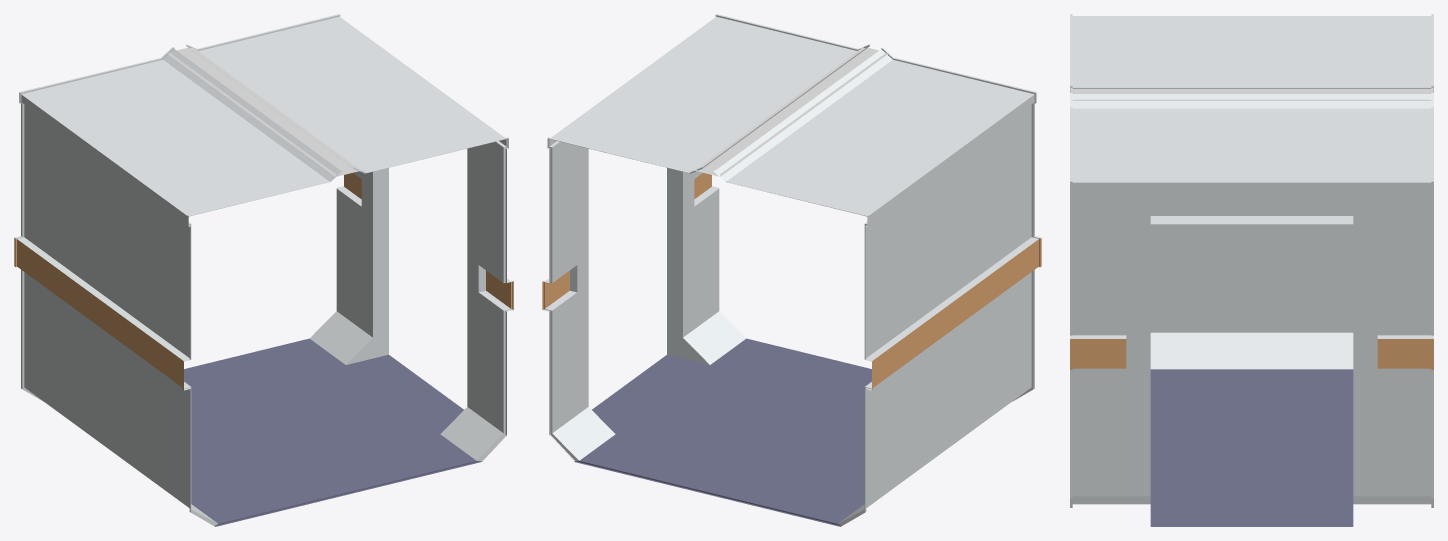
Rendered from GangDeur 1.fbx.
The picture shows the model from 3 angles, left to right: view 1: azimuth 30°, elevation 25°; view 2: azimuth 150°, elevation 25°; view 3: azimuth 270°, elevation 25°; orthographic projection. The views are drawn at different scales.
Parts seen in each view (by area): view 1: GangDeur; view 2: GangDeur; view 3: GangDeur.
Boxes of the visible parts, x1,y1,x2,y2 form: GangDeur: (14,14,513,526); GangDeur: (542,14,1041,526); GangDeur: (1070,14,1433,526).
Bounding box in the file's own units: 2.27 × 2.09 × 1.98.
